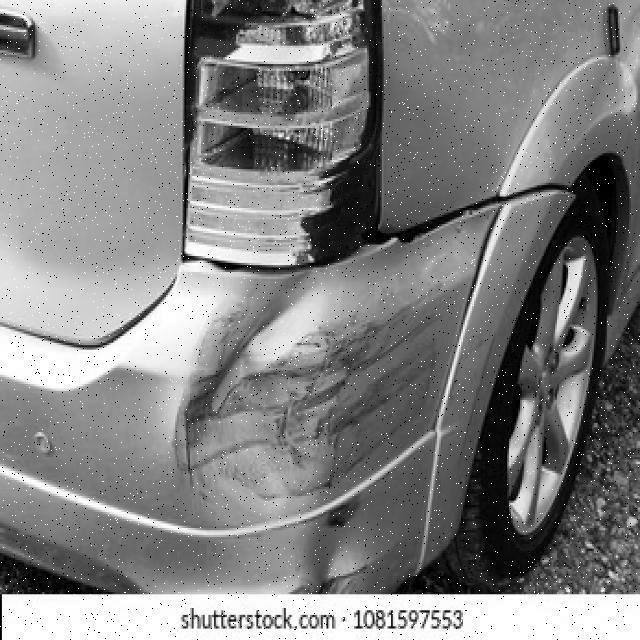rear-bumper-dent: (0, 254, 498, 592)
